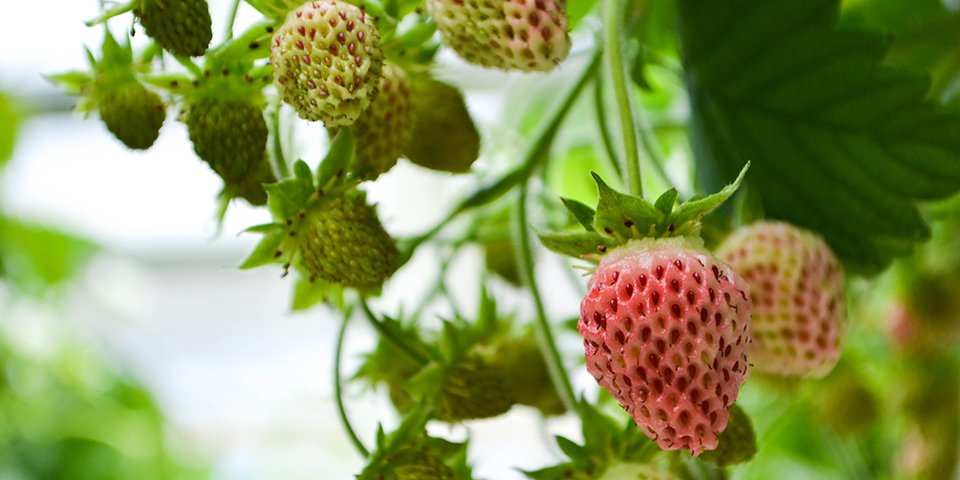unripe_strawberry: (579, 221, 756, 462), (713, 207, 853, 385), (267, 1, 387, 130), (324, 55, 418, 185), (424, 1, 574, 76), (292, 189, 394, 290), (184, 90, 272, 188), (98, 77, 169, 153), (132, 1, 216, 60)
